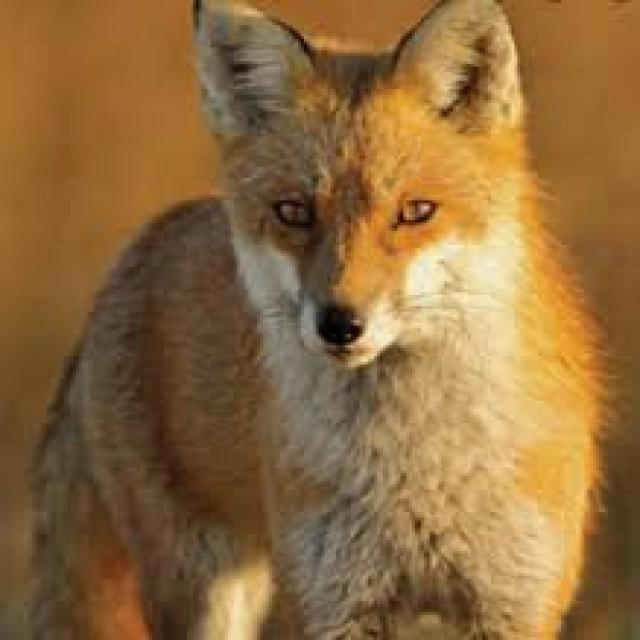fox: (23, 0, 602, 637)
